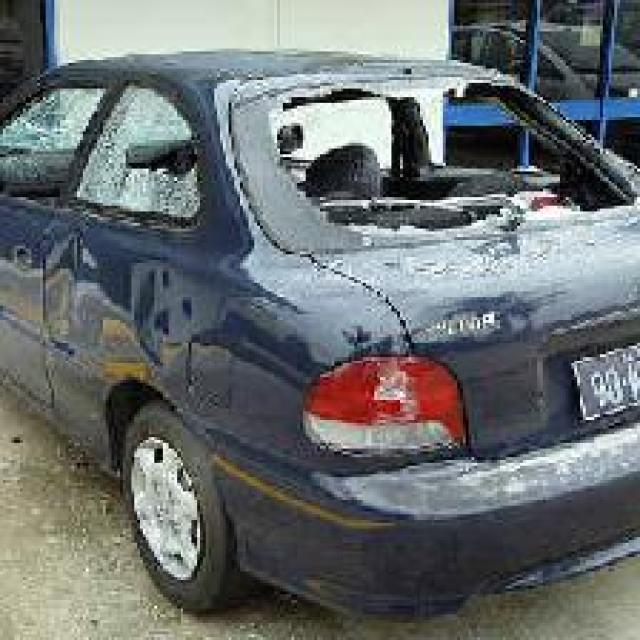glass_shatter_severe: (214, 60, 637, 251)
